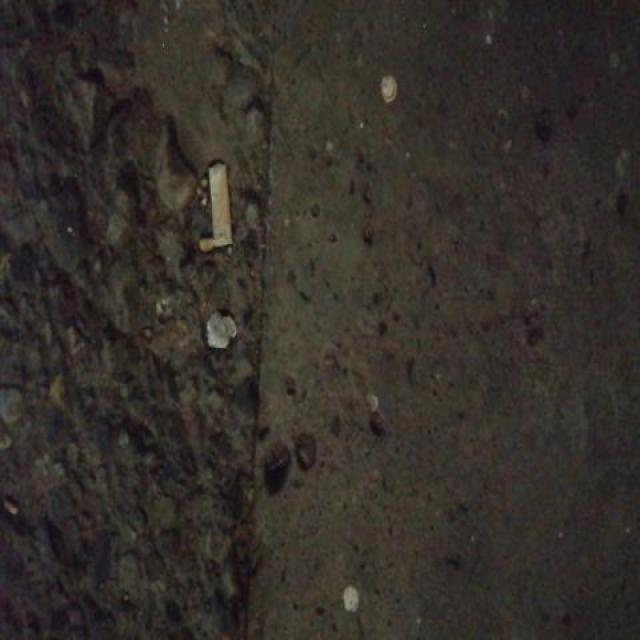non-organic waste: (206, 157, 237, 254)
